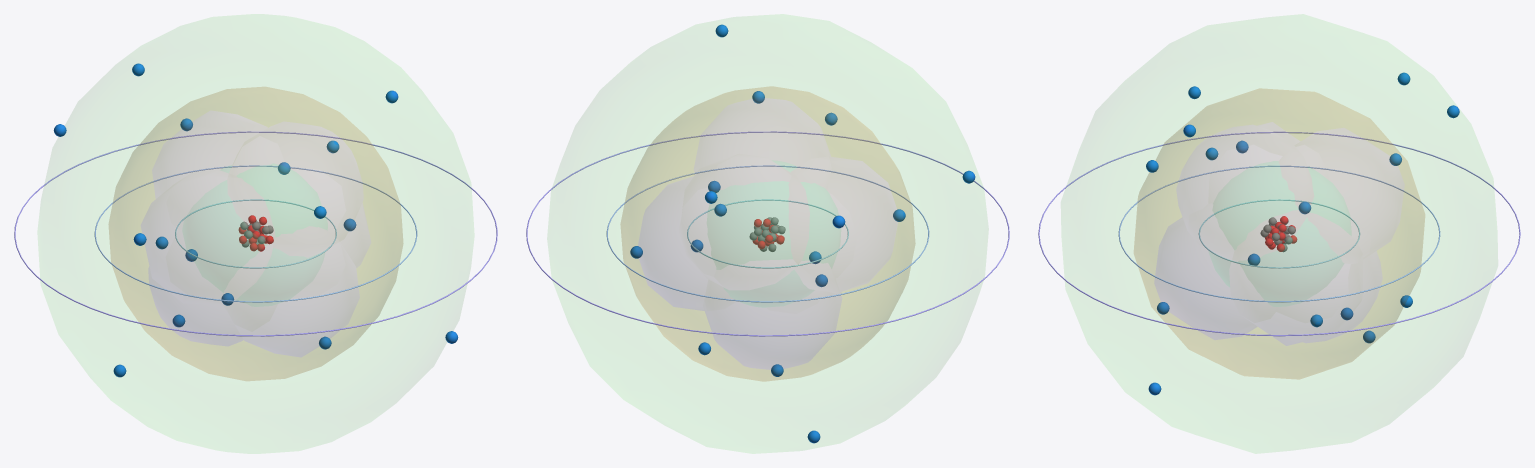
The picture shows the model from 3 angles, left to right: view 1: azimuth 30°, elevation 25°; view 2: azimuth 150°, elevation 25°; view 3: azimuth 270°, elevation 25°; orthographic projection.
Parts seen in each view (by area): view 1: Orbital_2s_0, Orbital_2p_1, Orbital_2p_2, Orbital_2p_0, Nivel_n3, Nivel_n2, Nivel_n1; view 2: Orbital_2s_0, Orbital_2p_2, Orbital_2p_0, Nivel_n3, Nivel_n2, Nivel_n1, Orbital_2p_1; view 3: Orbital_2s_0, Orbital_2p_1, Orbital_2p_2, Orbital_2p_0, Nivel_n3, Nivel_n2, Nivel_n1.
Part boxes in pixels (x1,y1,x2,y2): Orbital_2s_0: (109,87,402,380); Orbital_2p_1: (152,111,359,356); Orbital_2p_2: (149,122,362,345); Orbital_2p_0: (141,186,370,304); Nivel_n3: (14,131,497,336); Nivel_n2: (94,165,417,302); Nivel_n1: (175,199,336,268); Orbital_2s_0: (620,86,915,381); Orbital_2p_2: (694,98,841,369); Orbital_2p_0: (638,157,897,310); Nivel_n3: (526,131,1009,336); Nivel_n2: (606,165,929,302); Nivel_n1: (687,199,848,268); Orbital_2p_1: (683,156,793,284); Orbital_2s_0: (1134,88,1424,379); Orbital_2p_1: (1155,128,1403,339); Orbital_2p_2: (1177,125,1381,342); Orbital_2p_0: (1255,122,1362,345); Nivel_n3: (1038,131,1520,336); Nivel_n2: (1118,165,1440,302); Nivel_n1: (1198,199,1360,268).
Size of the model in its own units: 0.9024 by 0.8257 by 0.9024.
